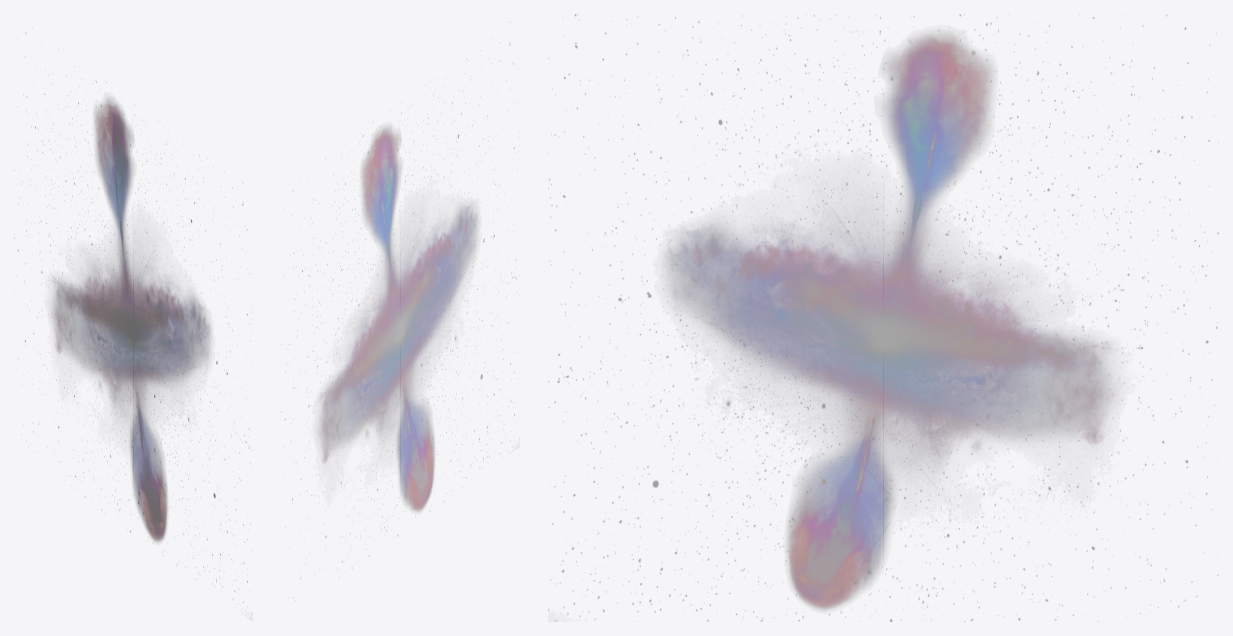
The model's file is quasars.glb.
3 views of the same model, side by side, from view 1: azimuth 30°, elevation 25°; view 2: azimuth 150°, elevation 25°; view 3: azimuth 270°, elevation 25° (orthographic). The views are drawn at different scales.
Parts seen in each view (by area): view 1: Plane; view 2: Plane; view 3: Plane.
Boxes of the visible parts, box(x1,y1,x2,y2) form: Plane: box(14, 32, 250, 602); Plane: box(281, 44, 518, 578); Plane: box(548, 14, 1218, 621).
Bounding box in the file's own units: 0 × 2994 × 2994.
1 material, 1 textured.
